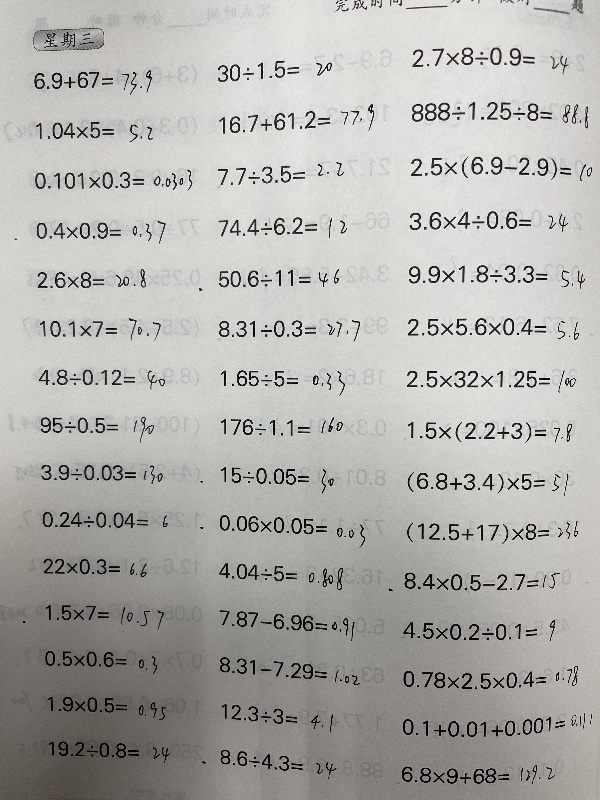equation: (399, 702, 596, 749), (404, 89, 592, 137), (406, 144, 594, 192), (399, 656, 584, 700), (403, 253, 589, 291), (405, 307, 591, 345), (403, 358, 589, 396), (400, 464, 586, 502), (400, 509, 586, 547), (407, 42, 572, 82), (396, 752, 569, 790), (215, 507, 370, 548), (399, 560, 566, 598), (215, 650, 362, 691), (215, 603, 362, 644), (210, 556, 357, 597), (397, 609, 563, 645), (214, 101, 377, 135), (217, 741, 344, 784), (216, 695, 343, 738), (34, 502, 178, 539), (404, 206, 571, 237), (403, 417, 575, 445), (30, 165, 196, 194), (40, 598, 166, 635), (38, 640, 164, 677), (44, 689, 170, 726), (47, 731, 173, 768), (33, 457, 185, 487), (216, 462, 343, 497), (215, 365, 347, 398), (214, 316, 364, 345), (36, 412, 158, 447), (32, 217, 169, 247), (28, 66, 154, 98), (212, 211, 350, 240), (32, 117, 157, 148), (35, 312, 163, 341), (37, 552, 155, 582), (34, 364, 168, 390), (213, 160, 346, 186), (216, 413, 345, 438), (213, 265, 341, 290), (32, 263, 149, 290), (212, 57, 333, 82)
